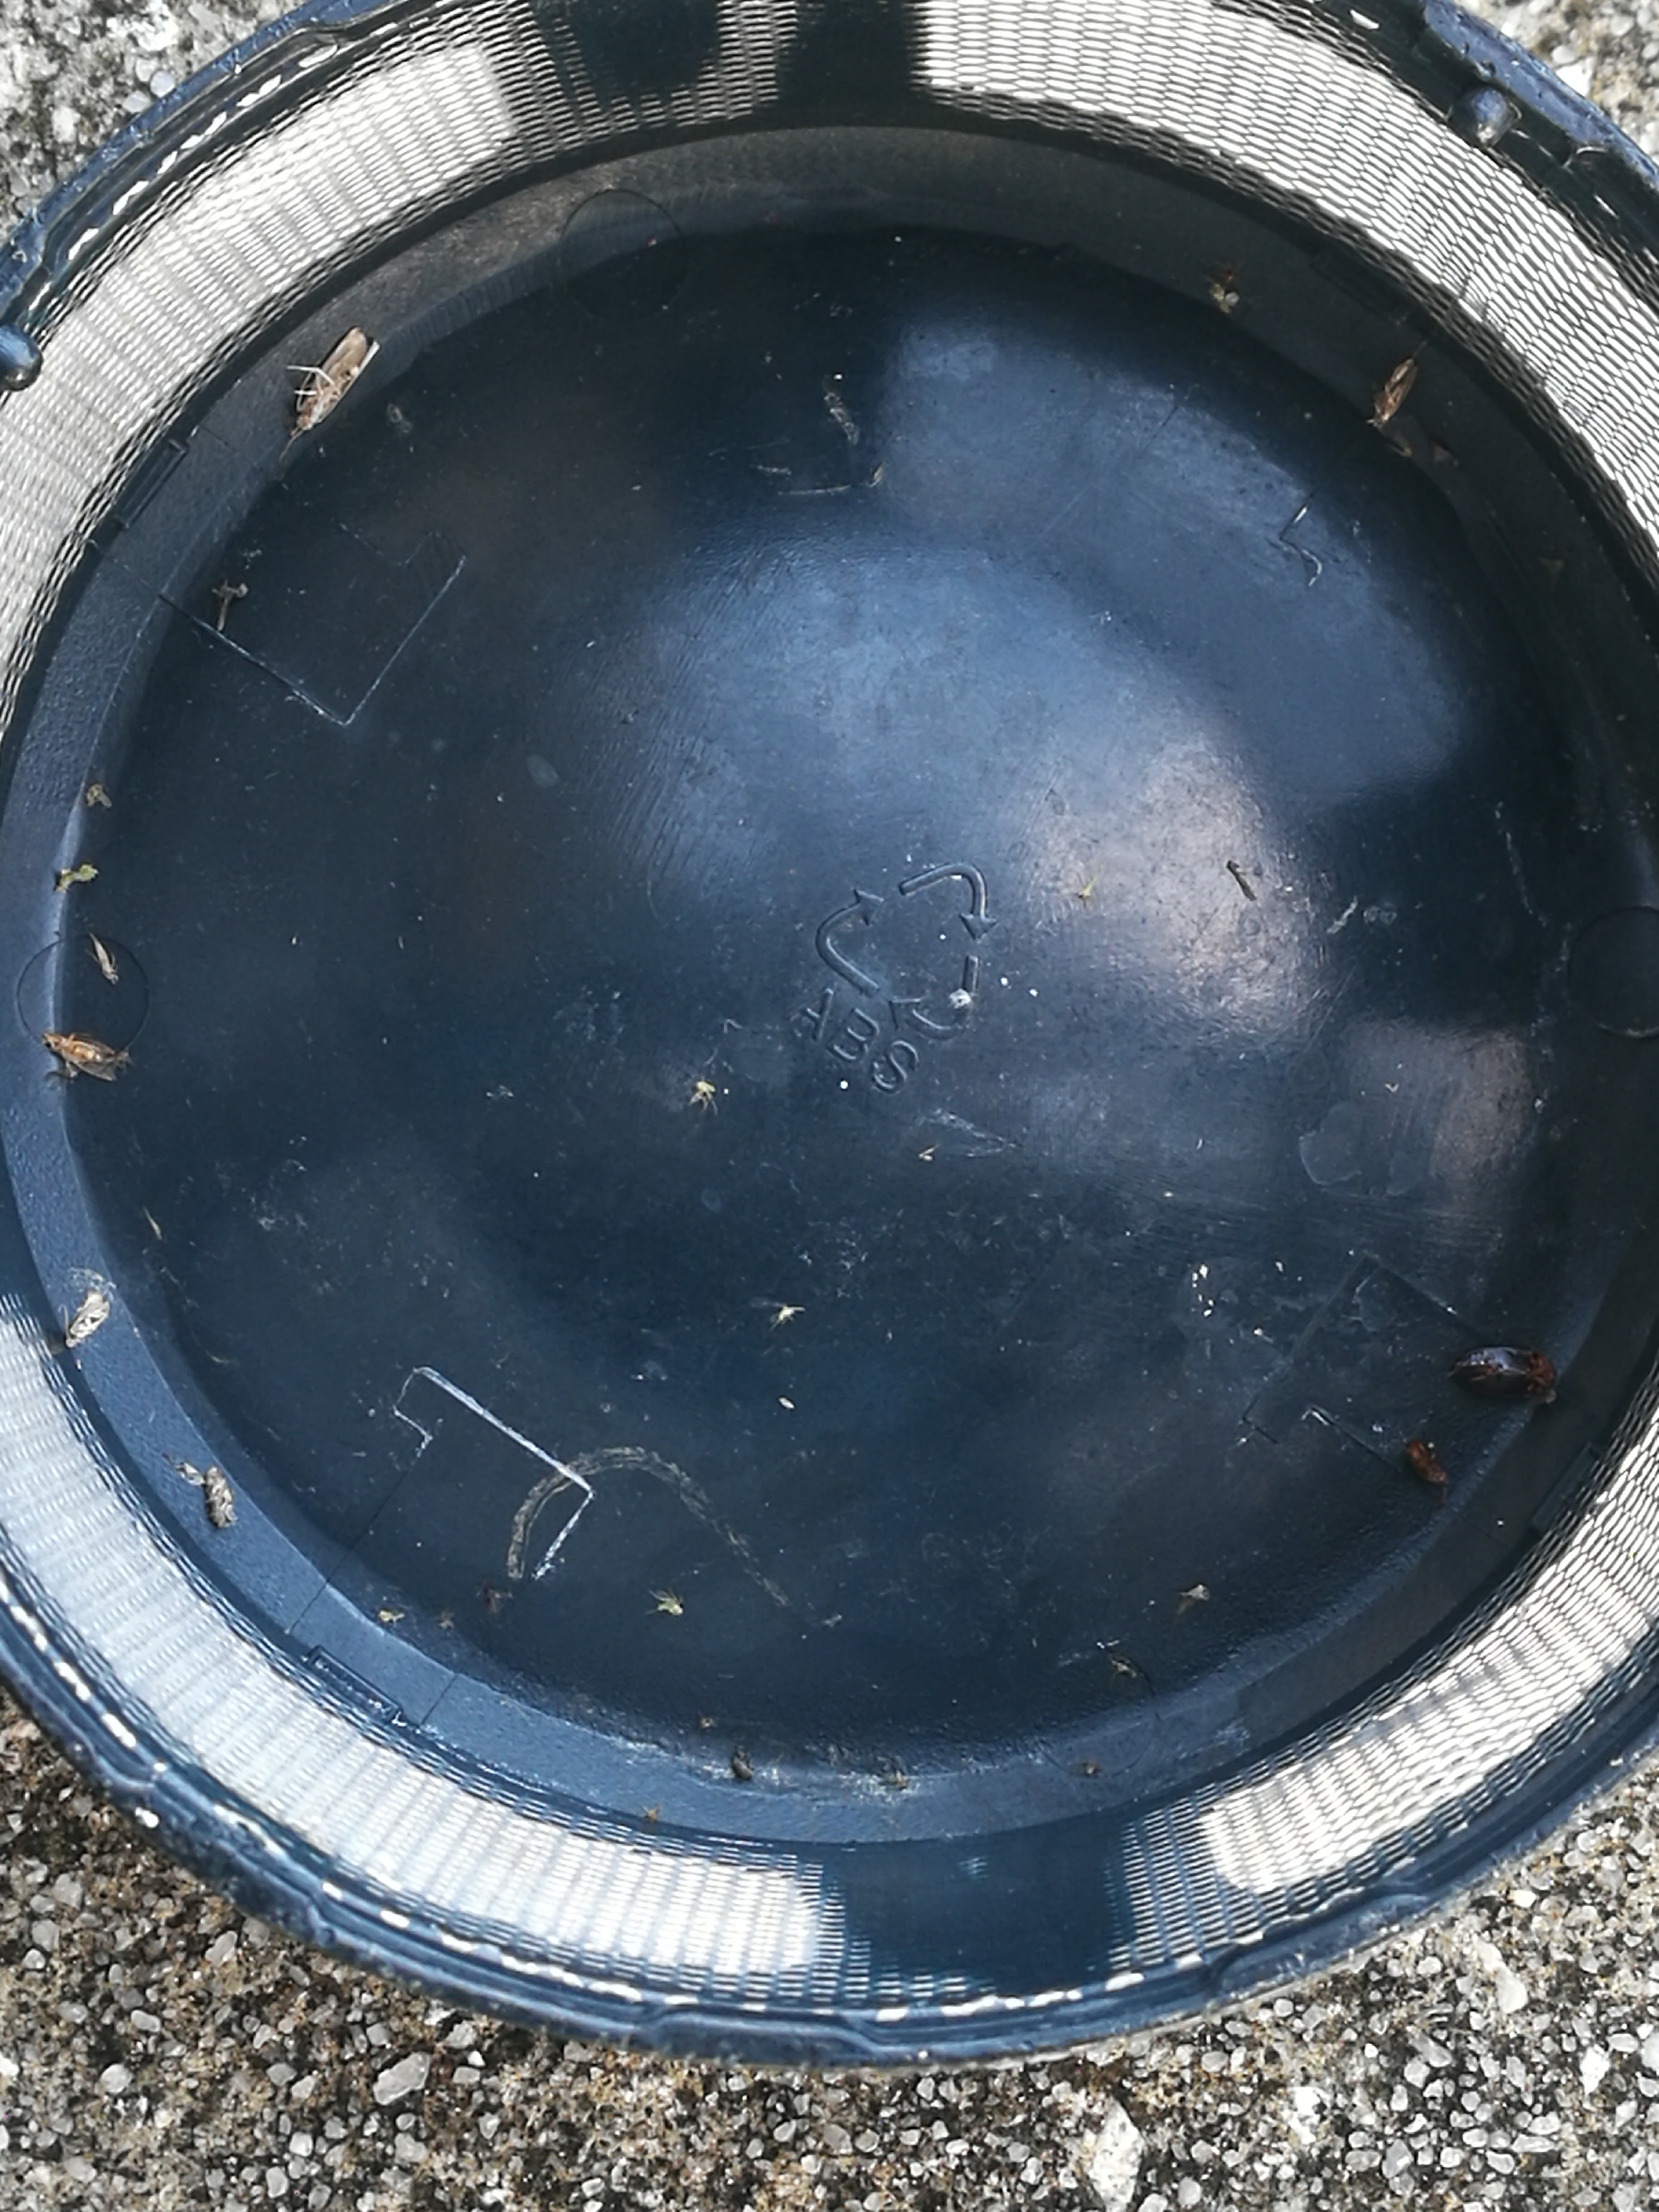beetle: (1457, 1346, 1554, 1400)
mosquito: (296, 326, 380, 430), (45, 1031, 117, 1083), (1370, 361, 1413, 428), (64, 1292, 110, 1348), (206, 1467, 237, 1526), (1406, 1444, 1446, 1482)
